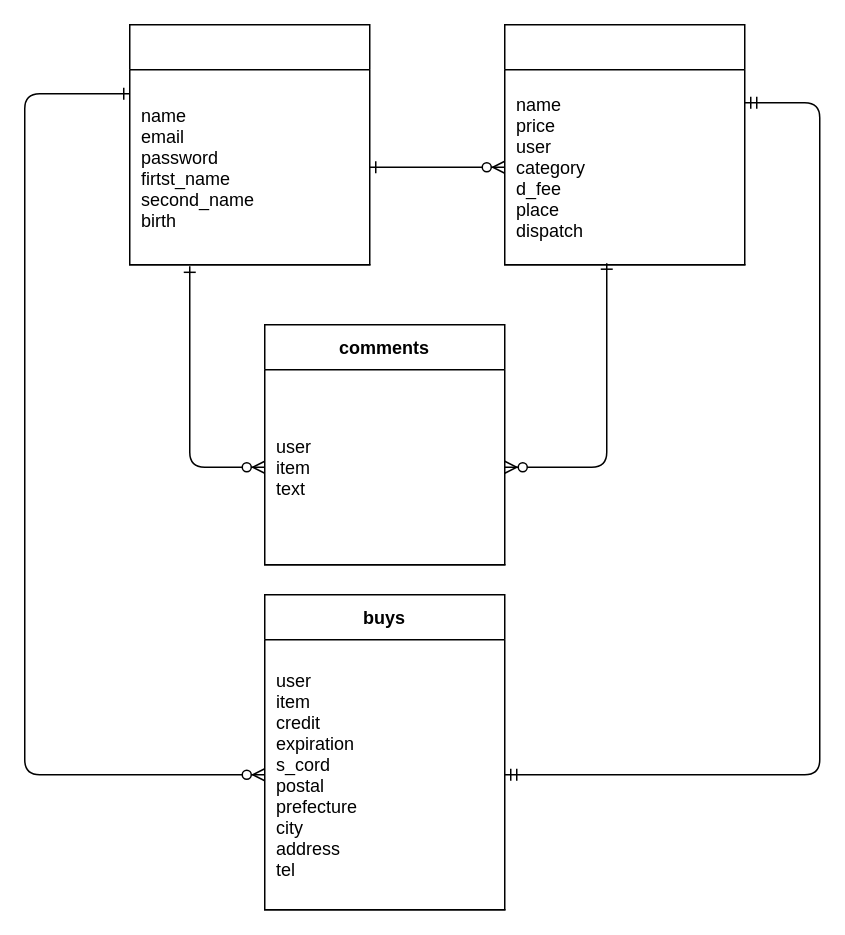
Some shapes in this 845 by 935 pixel diagram are drawn without their labels. The box of each missing label's shape, as (x1, y1, x2, y2) in pixels:
items: (503, 23, 745, 265)
users: (128, 23, 370, 265)
